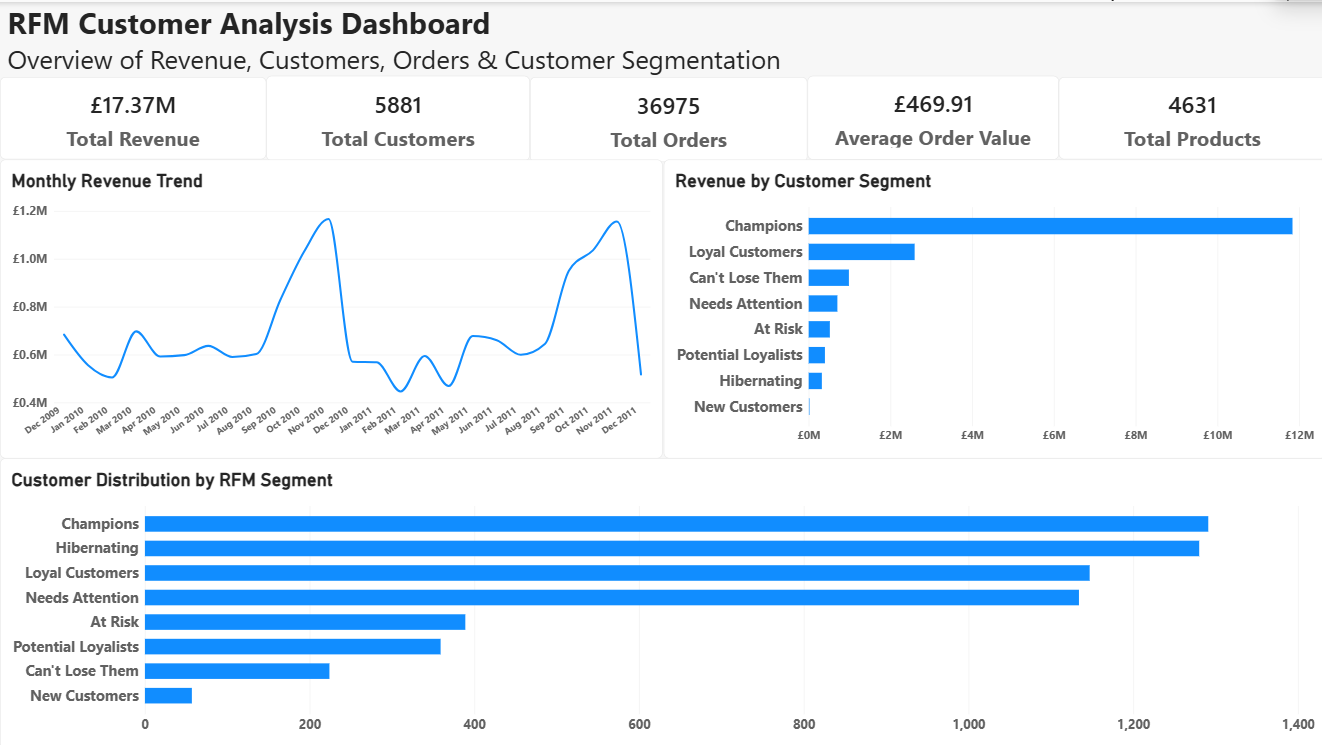

The dashboard page shown, as its layout file describes it:
{"tool":"powerbi","page":{"name":"RFM Customer Analysis Dashboard","canvas":[1920,1080],"ordinal":0},"visuals":[{"type":"textbox","box":[10.3,0,1910.1,109.1],"z":0},{"type":"card","fields":{"Values":["customer_rfm_analysis.Total Revenue"]},"box":[0,108.6,385.5,119.4],"z":1000},{"type":"card","fields":{"Values":["customer_rfm_analysis.Total Customers"]},"box":[385.5,106.8,381.8,123.1],"z":2000},{"type":"card","fields":{"Values":["customer_rfm_analysis.Total Orders"]},"box":[767.3,108.6,401.7,123.1],"z":3000},{"type":"card","fields":{"Values":["customer_rfm_analysis.Average Order Value"]},"box":[1169,106.8,363.7,121.2],"z":4000},{"type":"card","fields":{"Values":["customer_rfm_analysis.Total Products"]},"box":[1532.8,108.6,387.3,119.4],"z":5000},{"type":"lineChart","title":"Monthly Revenue Trend","fields":{"Category":["ecommerce_sales_data.Year_Month"],"Y":["customer_rfm_analysis.Total Revenue"]},"box":[0,228,959.1,432.5],"z":5001},{"type":"clusteredBarChart","title":"Revenue by Customer Segment","fields":{"Category":["ecommerce_sales_data.Customer_Segment"],"Y":["customer_rfm_analysis.Total Revenue"]},"box":[960.9,228,959.1,432.5],"z":5002},{"type":"clusteredBarChart","title":"Customer Distribution by RFM Segment","fields":{"Category":["ecommerce_sales_data.Customer_Segment"],"Y":["Count(ecommerce_sales_data.Customer ID)"]},"box":[0,660.7,1920.4,419.9],"z":5003}]}

Visuals, with their boxes in screenshot pixels (x1, y1, x2, y2), scaled from the page's 1920x1080 canvas onto the 1322x745 screenshot:
textbox: locate(7, 0, 1321, 75)
card - customer_rfm_analysis.Total Revenue: locate(0, 75, 265, 157)
card - customer_rfm_analysis.Total Customers: locate(265, 74, 528, 159)
card - customer_rfm_analysis.Total Orders: locate(528, 75, 805, 160)
card - customer_rfm_analysis.Average Order Value: locate(805, 74, 1055, 157)
card - customer_rfm_analysis.Total Products: locate(1055, 75, 1321, 157)
"Monthly Revenue Trend" lineChart: locate(0, 157, 660, 456)
"Revenue by Customer Segment" clusteredBarChart: locate(662, 157, 1321, 456)
"Customer Distribution by RFM Segment" clusteredBarChart: locate(0, 456, 1321, 744)
